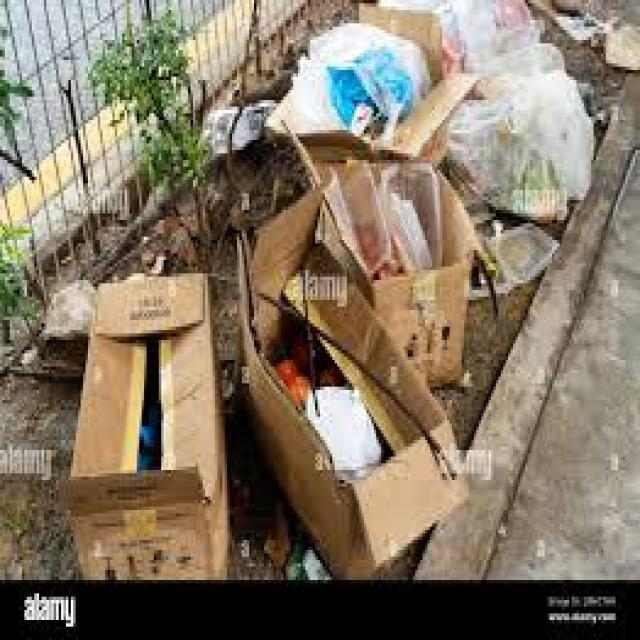cardboard: (232, 227, 462, 540), (61, 270, 237, 577)
trash: (442, 10, 616, 240)
